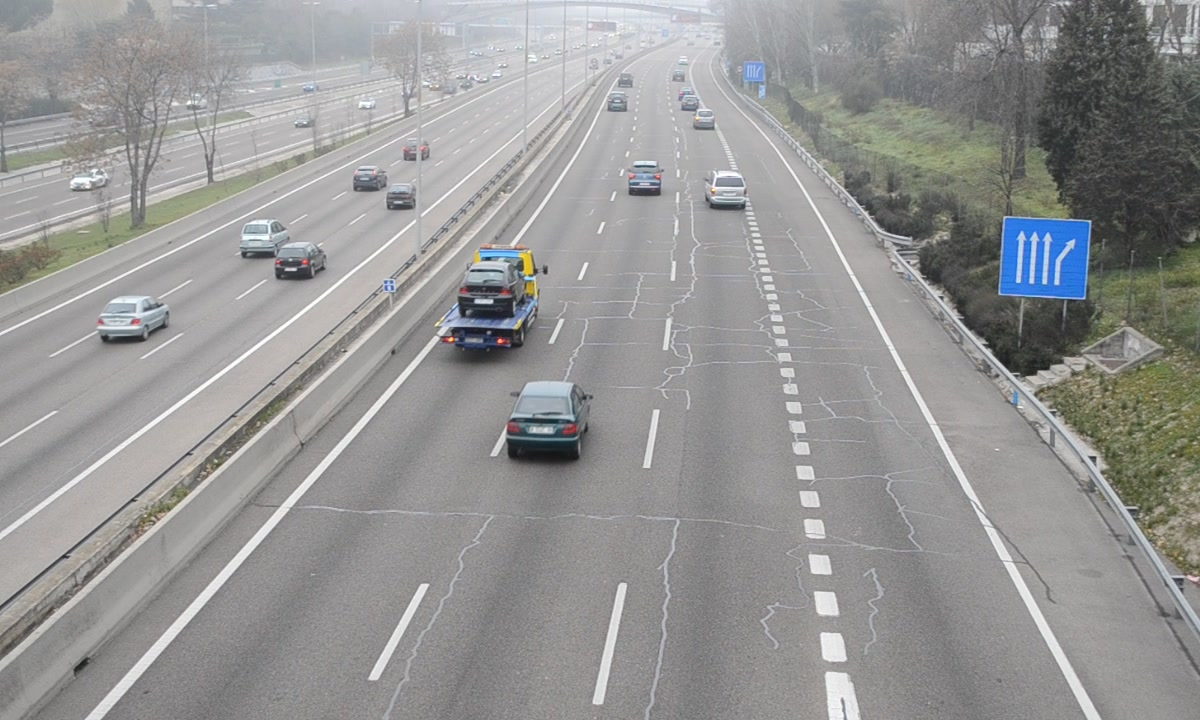car: (506, 382, 588, 449), (705, 170, 749, 210), (628, 160, 663, 195), (606, 90, 629, 114), (694, 105, 716, 130)
small-truck: (434, 244, 538, 351)
